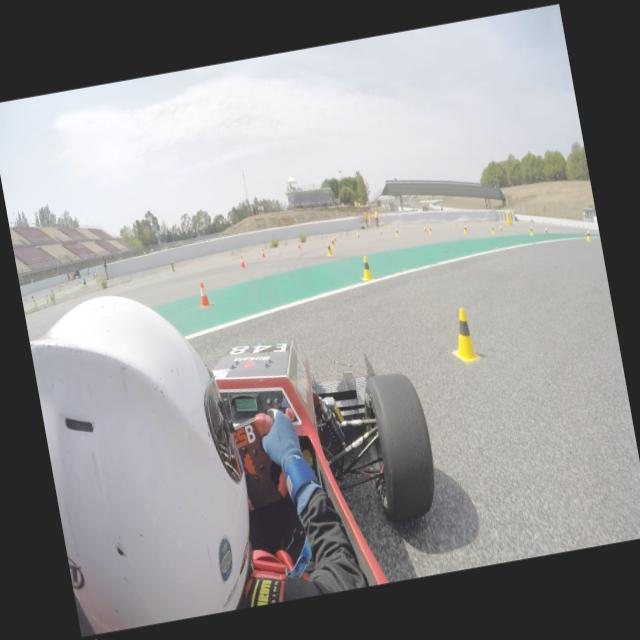orange_cone: (196, 280, 212, 308), (238, 255, 246, 268), (260, 248, 265, 256), (332, 234, 337, 242), (296, 240, 300, 248), (499, 222, 502, 230), (544, 225, 547, 233), (356, 230, 359, 237), (423, 225, 426, 232), (379, 228, 382, 234)
yellow_cone: (445, 304, 481, 364), (358, 254, 372, 282), (325, 242, 333, 256), (330, 238, 336, 248), (585, 230, 590, 242), (528, 226, 533, 236), (490, 224, 495, 233), (394, 228, 399, 237), (428, 226, 432, 234), (463, 225, 466, 232)
